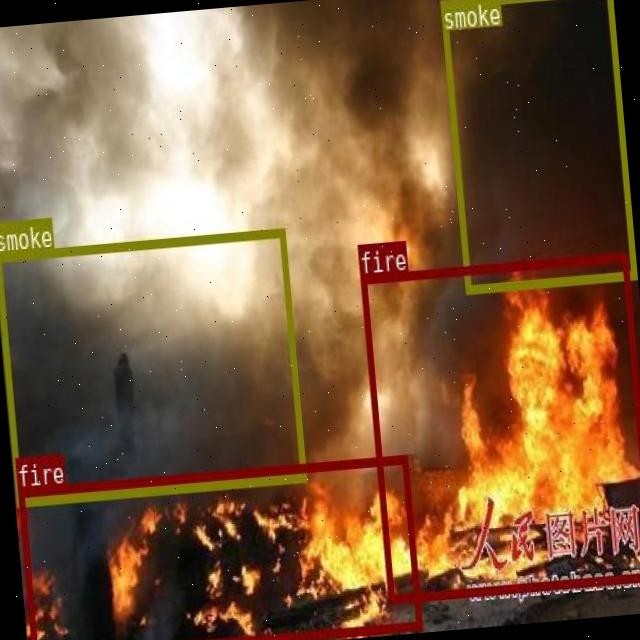fire: (359, 250, 640, 601), (16, 453, 421, 640)
smoke: (0, 227, 306, 506), (438, 0, 634, 291)
